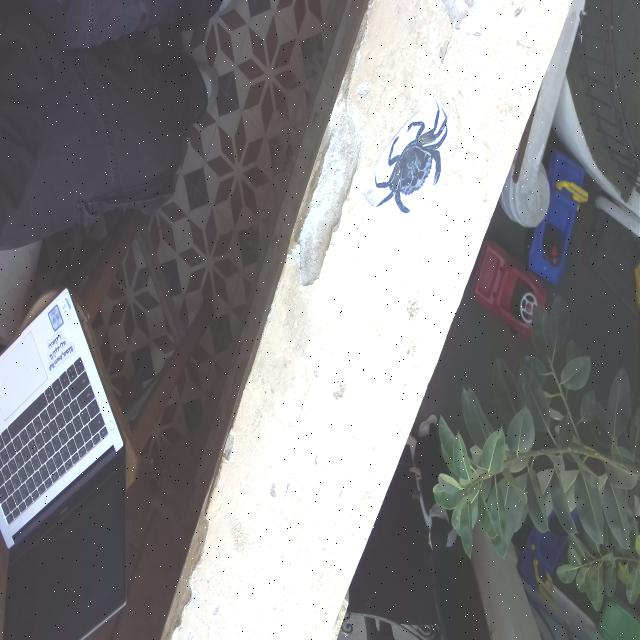European_Green_Crab: (364, 90, 461, 240)
